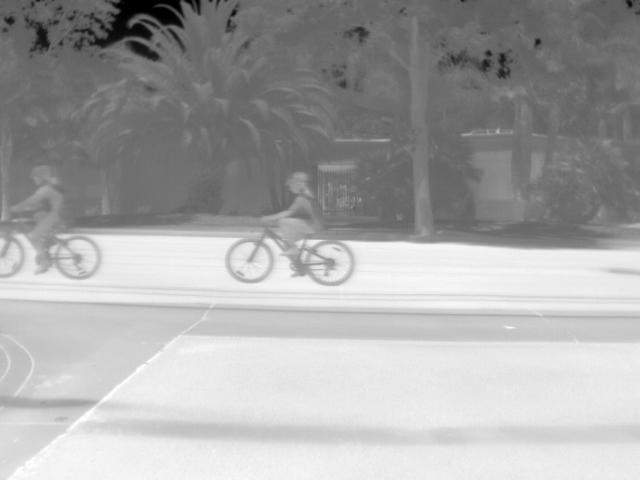person: (259, 168, 328, 276), (9, 163, 65, 276)
